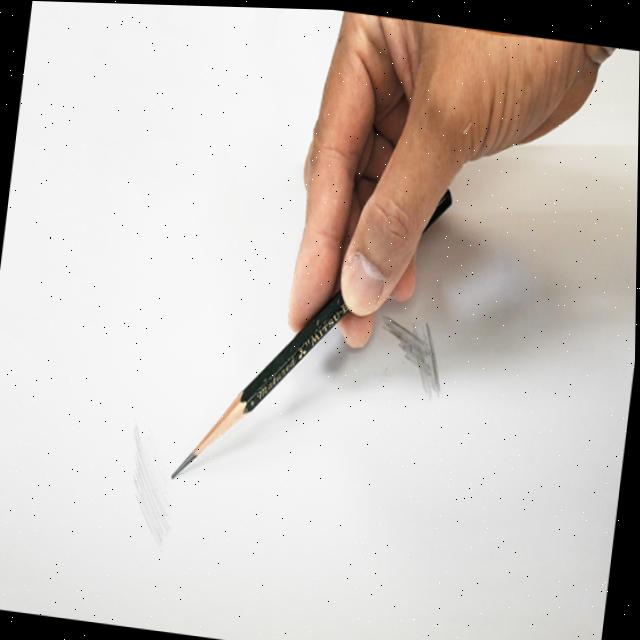pencil: (166, 161, 458, 487)
